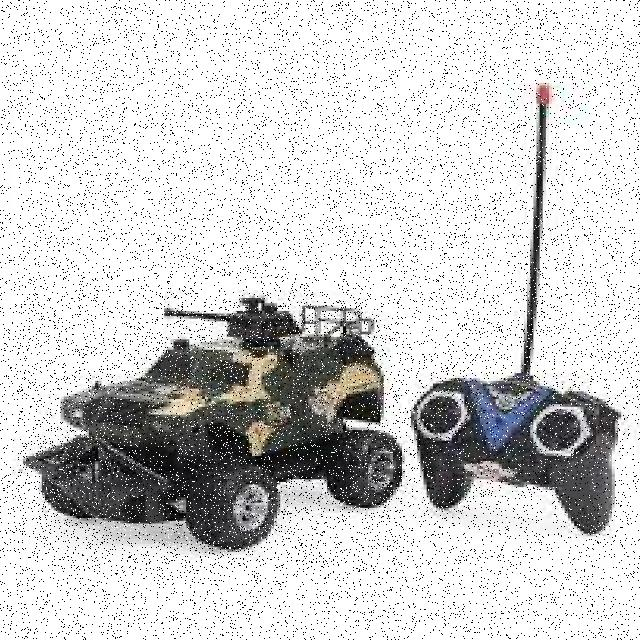MIL_MBT: (20, 293, 401, 575)
